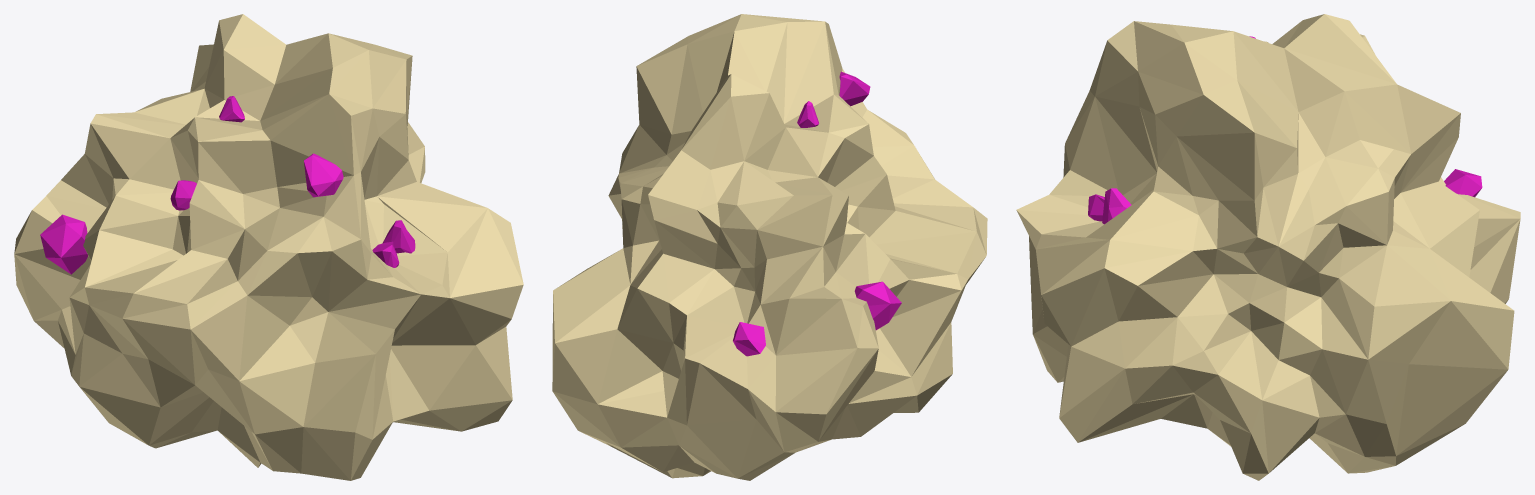
File: CrystalOre (61).fbx
The picture shows the model from 3 angles, left to right: view 1: azimuth 30°, elevation 25°; view 2: azimuth 150°, elevation 25°; view 3: azimuth 270°, elevation 25°; orthographic projection. The views are drawn at different scales.
Visible parts, largest first — view 1: Asteroid281; view 2: Asteroid281; view 3: Asteroid281.
Part boxes in pixels (x1=…): Asteroid281: x1=14, y1=14, x2=523, y2=480; Asteroid281: x1=552, y1=14, x2=987, y2=480; Asteroid281: x1=1016, y1=14, x2=1520, y2=480.
Bounding box in the file's own units: 331 × 360 × 374.
